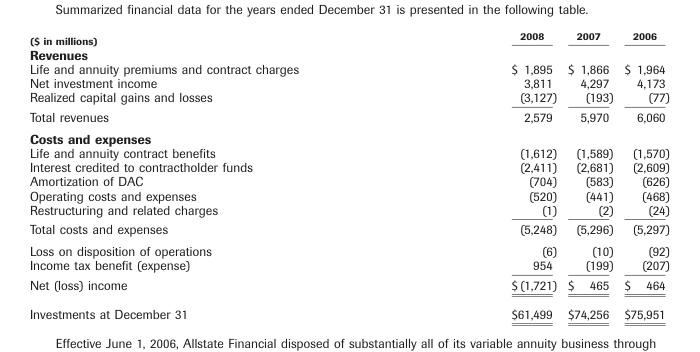table: (28, 29, 668, 320)
table column: (28, 29, 404, 320), (404, 29, 561, 320), (561, 29, 618, 320), (618, 29, 668, 320)
table column header: (28, 29, 668, 46)
table projected row header: (28, 127, 668, 145), (28, 46, 668, 61)
table row: (28, 274, 668, 298), (28, 298, 668, 320), (28, 106, 668, 127), (28, 219, 668, 239), (28, 127, 668, 145), (28, 239, 668, 257), (28, 29, 668, 46), (28, 89, 668, 106), (28, 202, 668, 219), (28, 257, 668, 274), (28, 46, 668, 61), (28, 173, 668, 188), (28, 61, 668, 75), (28, 75, 668, 89), (28, 145, 668, 159), (28, 159, 668, 173), (28, 188, 668, 202)
